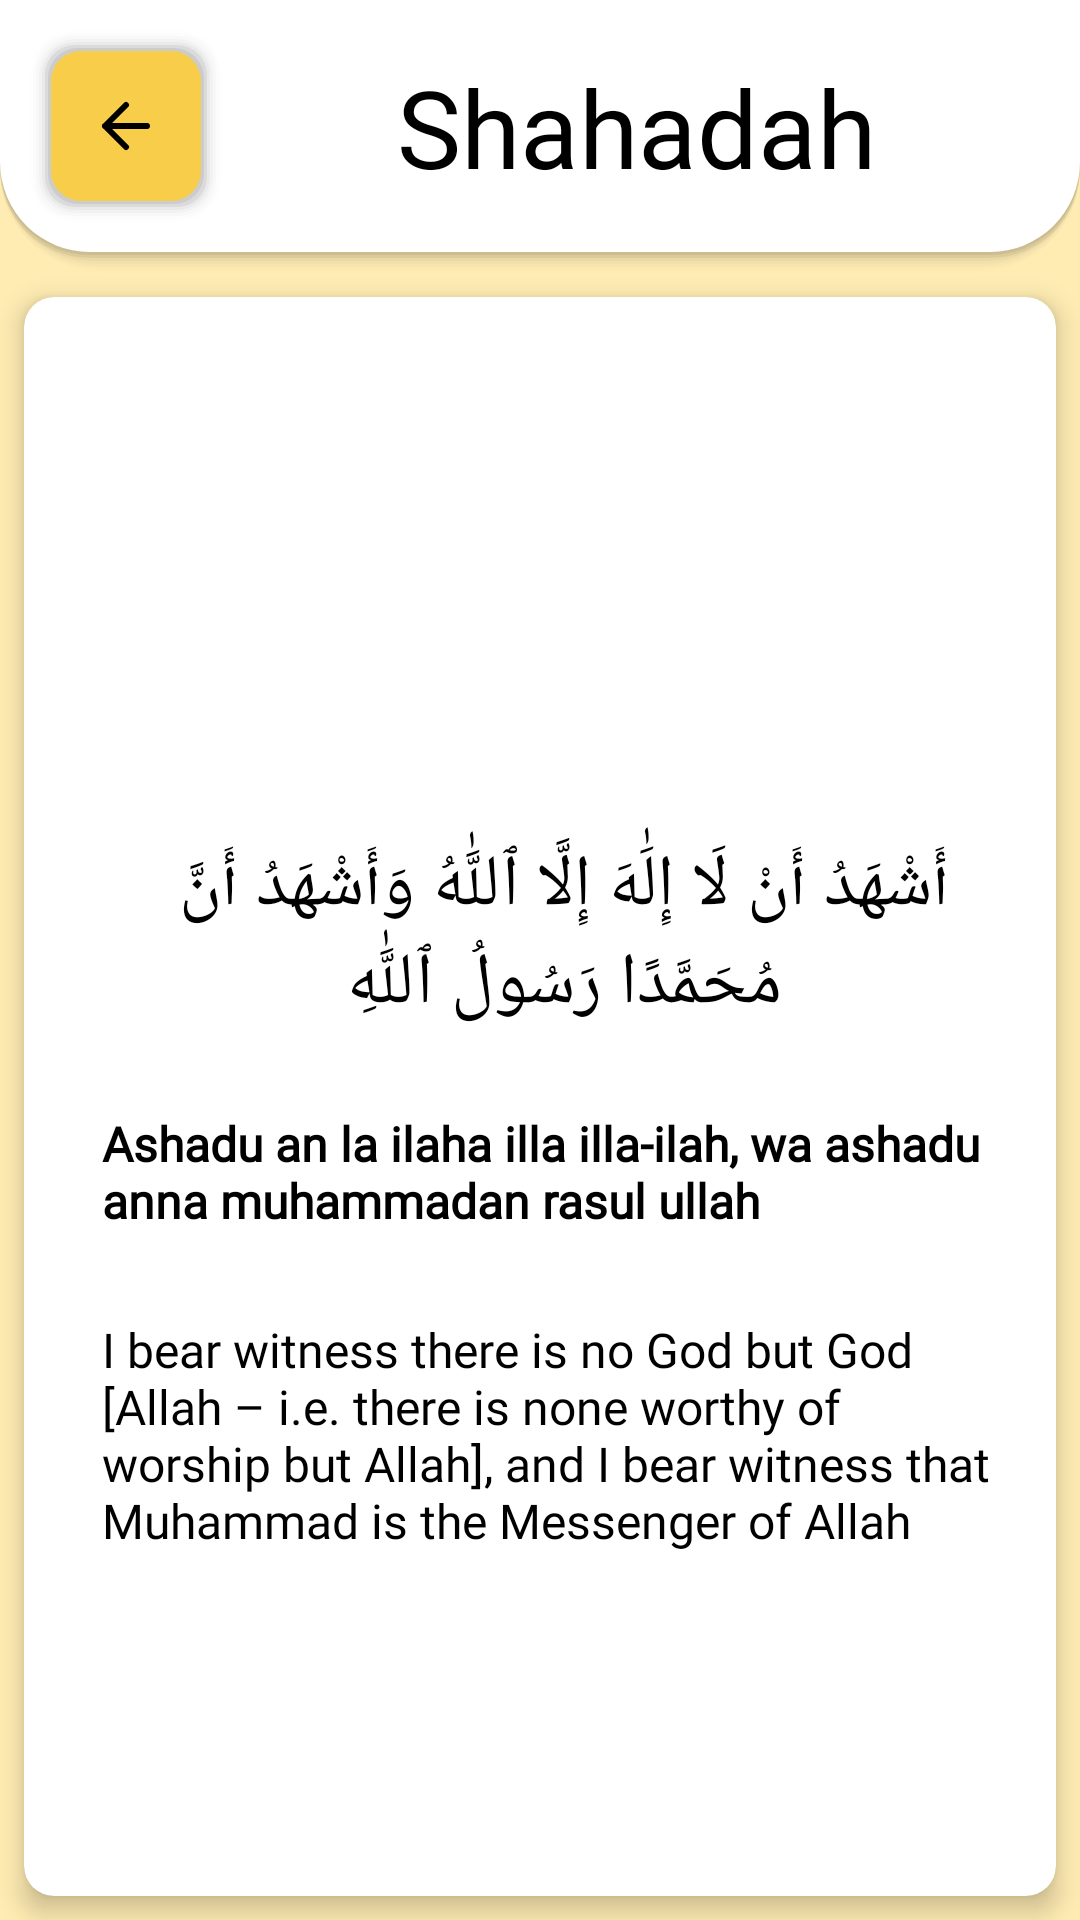

Screen size 1080px x 1920px. Icon name, then its center in pixels as (x,y):
arrow left: (126,126)
